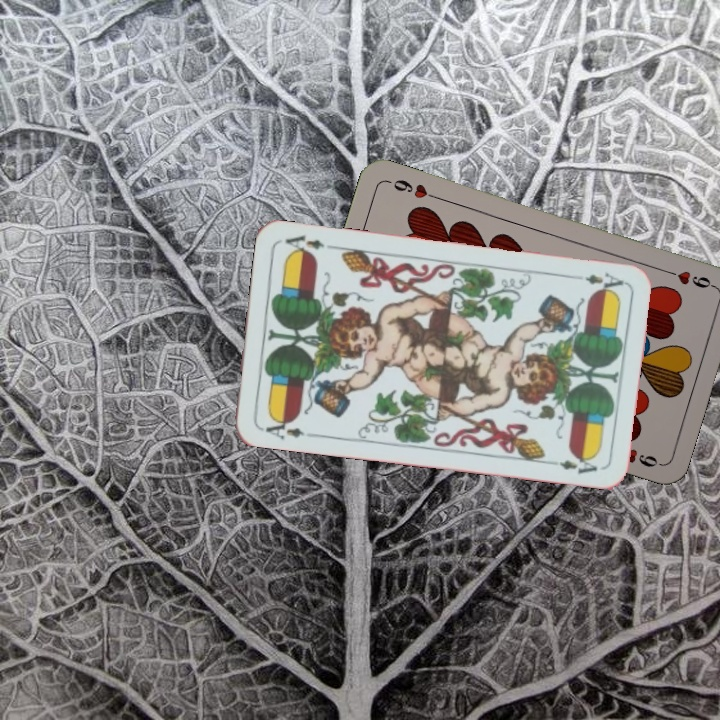EA: (257, 413, 307, 442), (582, 269, 627, 295)
H9: (659, 265, 717, 291)
